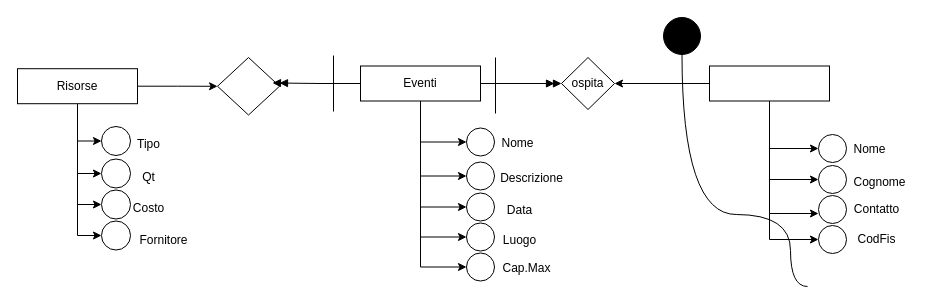
Image size: 932x304. Some labels were removed from this diagram. Each missing label, with the centre of its shape:
"necessita" goes at point (248, 85).
"Partecipanti" goes at point (769, 83).
